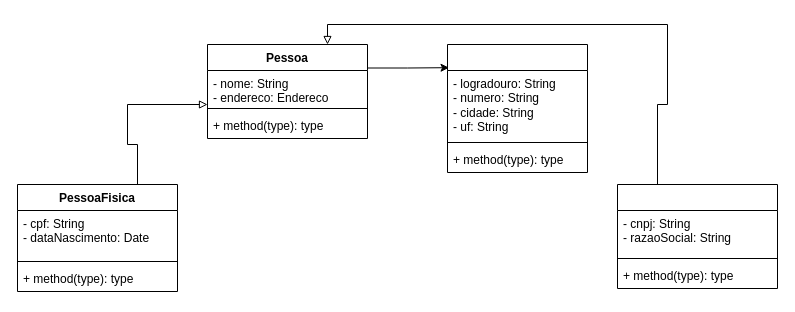
This 795x312 diagram has some shape labels left out. Here are the shapes that lost their labels. From the top down, the box of each, then its label:
(446, 44, 588, 172): endereco
(616, 184, 778, 288): PessoaJuridica
